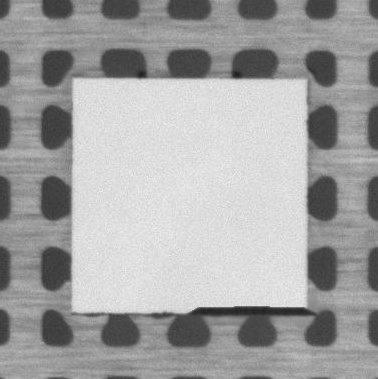DIE_BROKEN: (183, 305, 311, 316)
